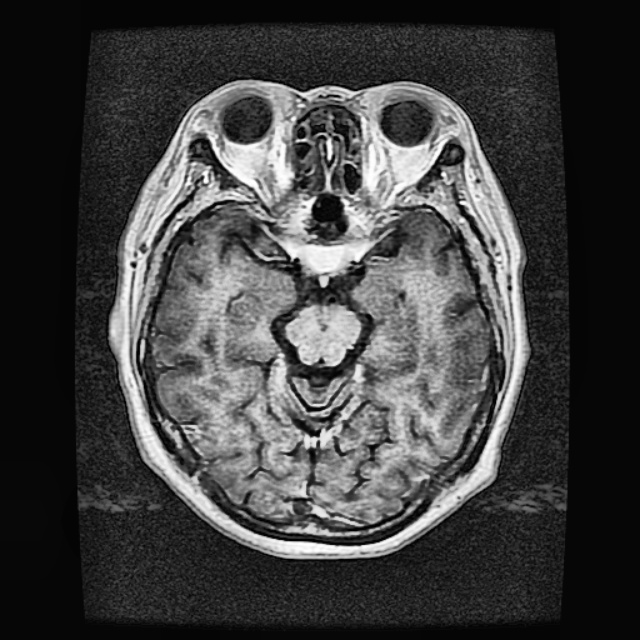Pituitary: (297, 243, 345, 272)
